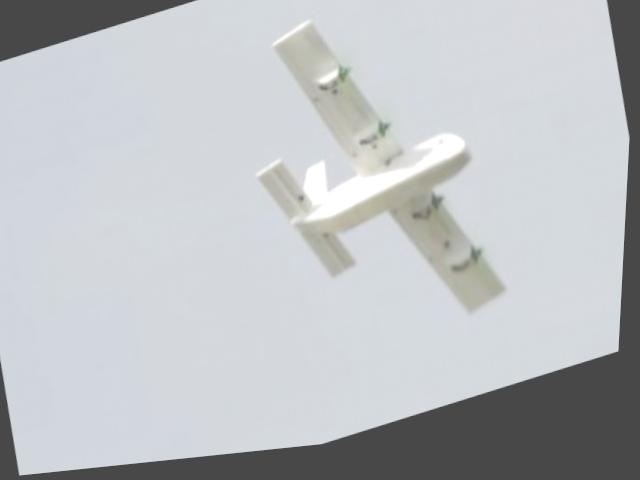uav: (218, 0, 532, 392)
